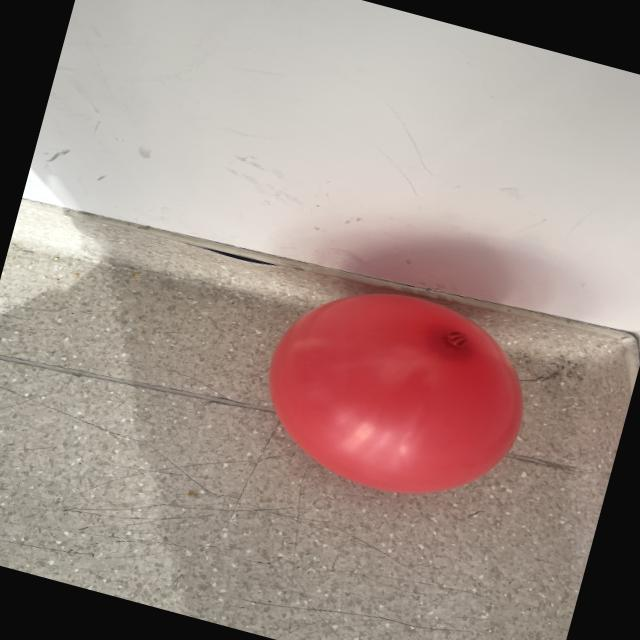balloon: (268, 294, 522, 493)
